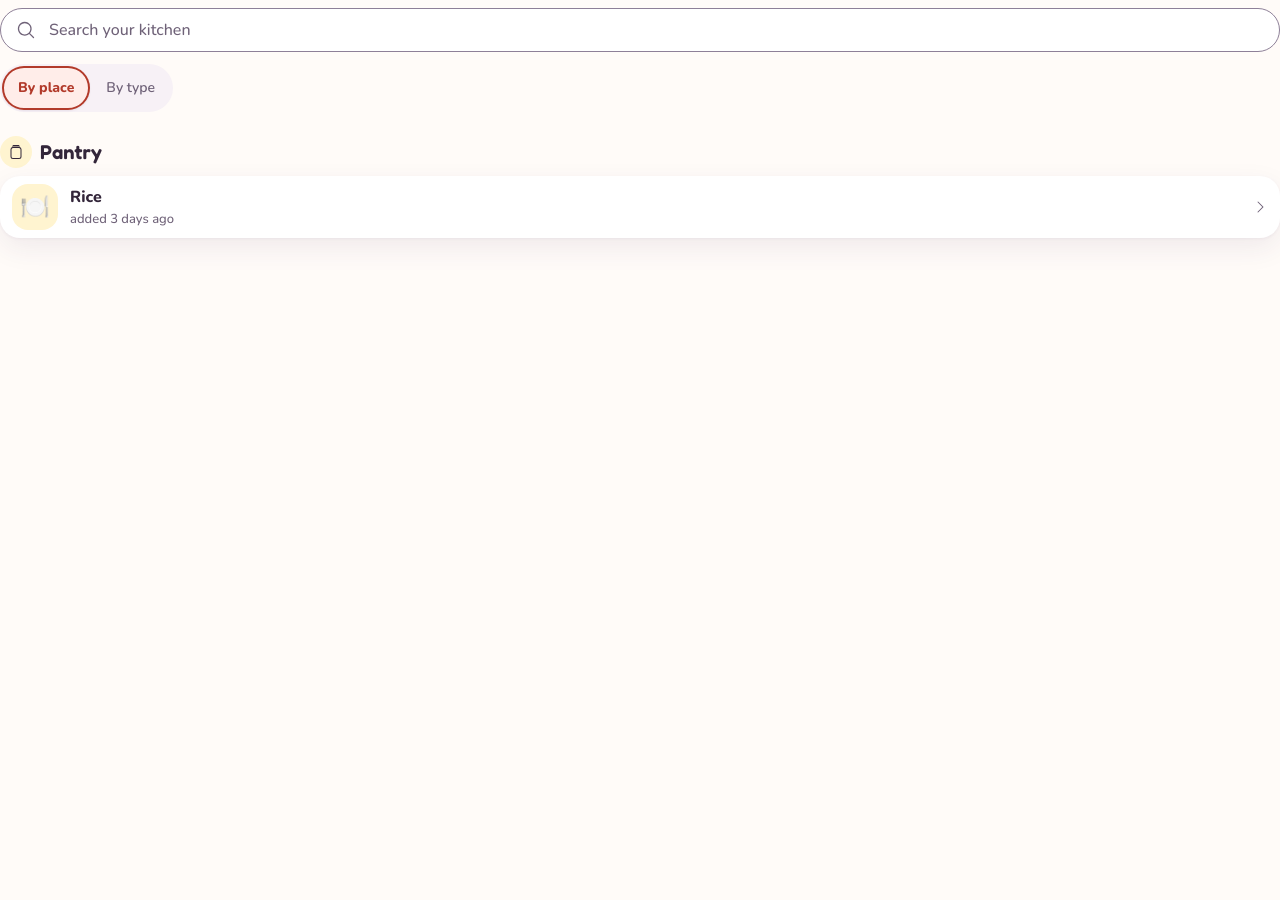
Test: Setting a level in the edit sheet › a failed save says nothing changed in the sheet and keeps the row as it was (0018)
The image size is (1280, 900).
Click the button with aria-label "Edit rice": (86, 197) left=70, top=186, right=102, bottom=208
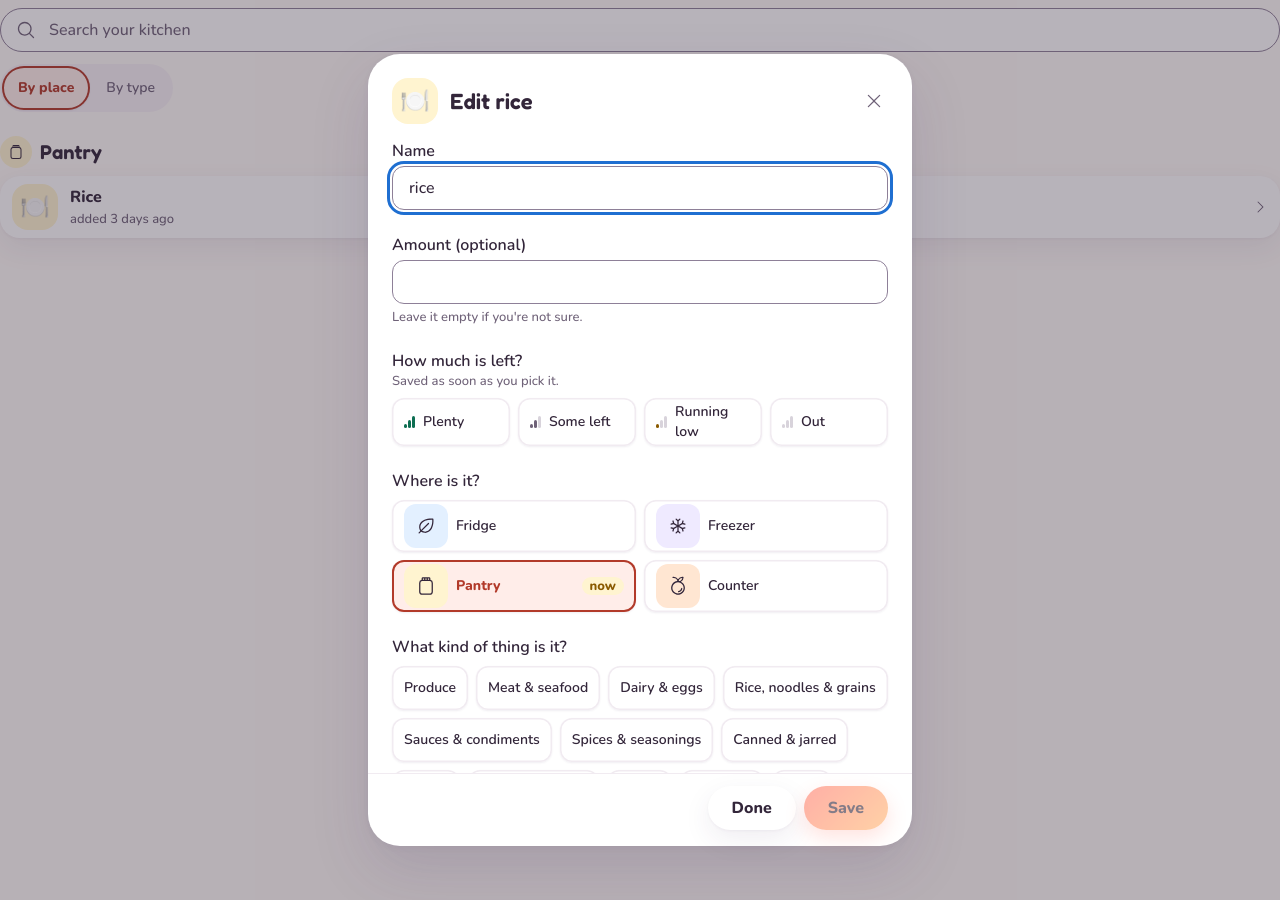
Click the button "Running low": (703, 422) left=644, top=398, right=762, bottom=446
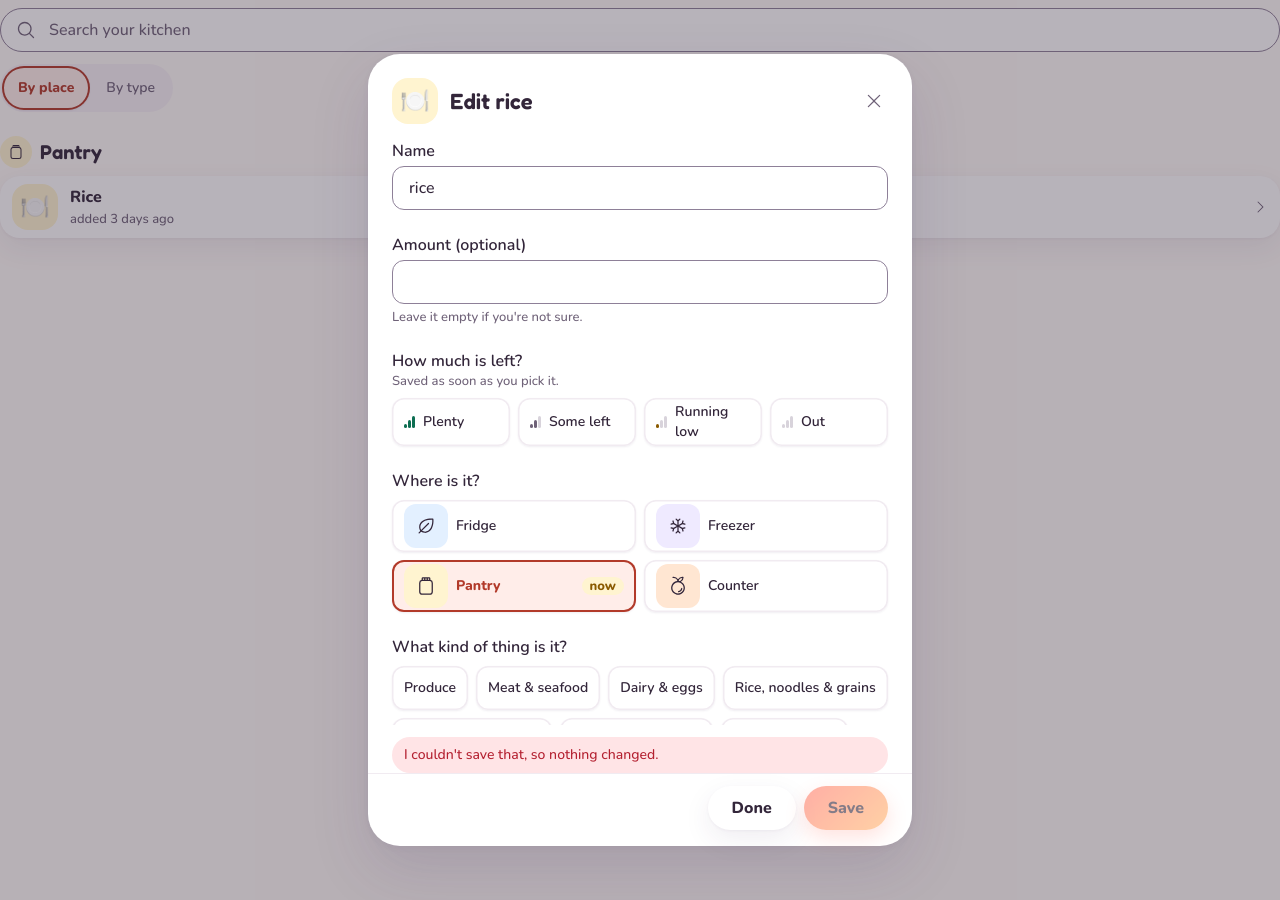
Now the message reads "I couldn't save that, so nothing changed.", box left=404, top=745, right=658, bottom=764
